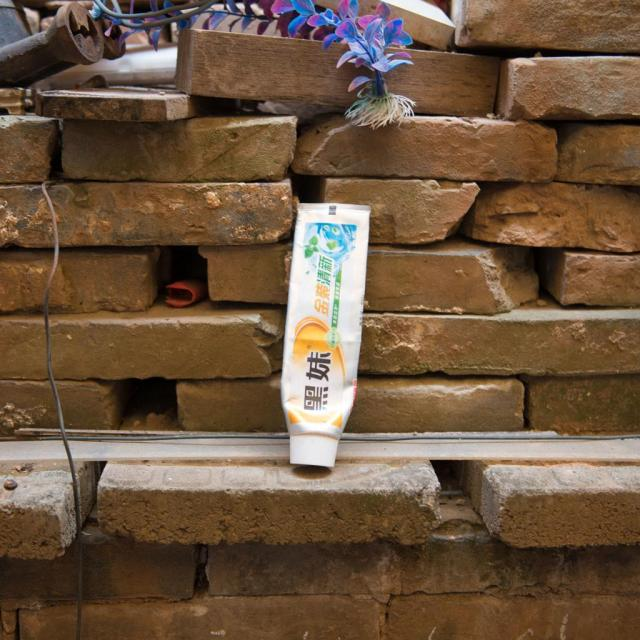Toothpaste: (272, 202, 374, 475)
